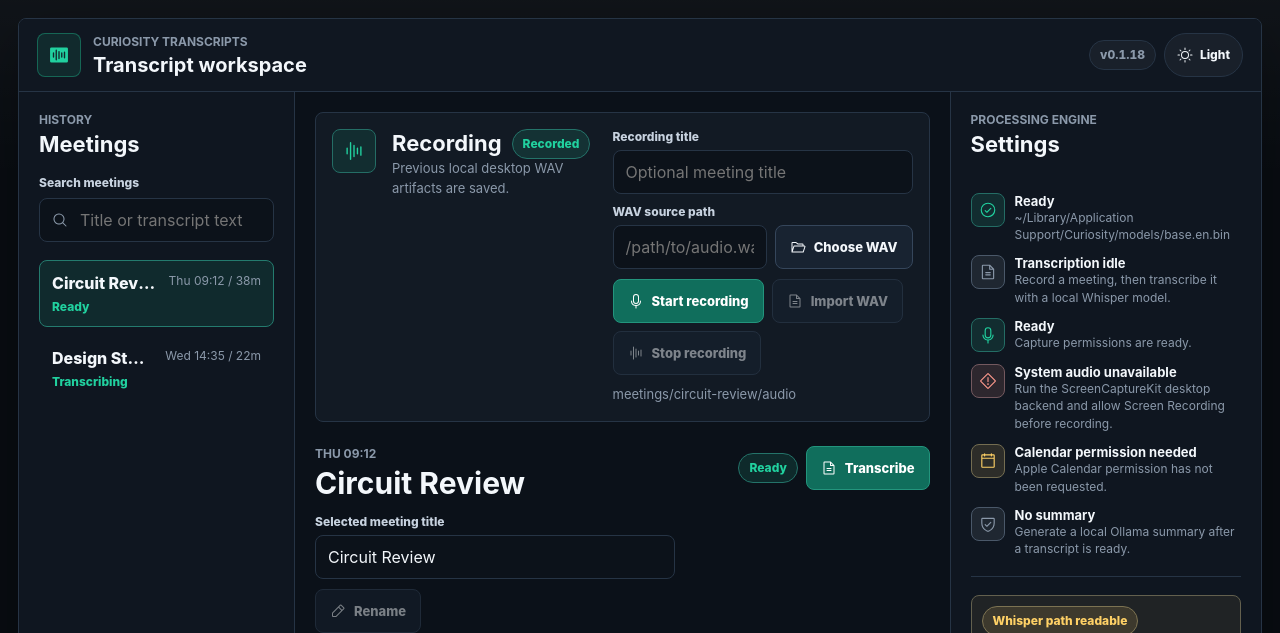
Test: desktop workspace shell › preserves a typed WAV path and reports native picker errors
Type "/Users/adrian/imports/typed.wav" into the field labelled "WAV source path" at (690, 247), box top-left (612, 225), bottom-right (767, 269)
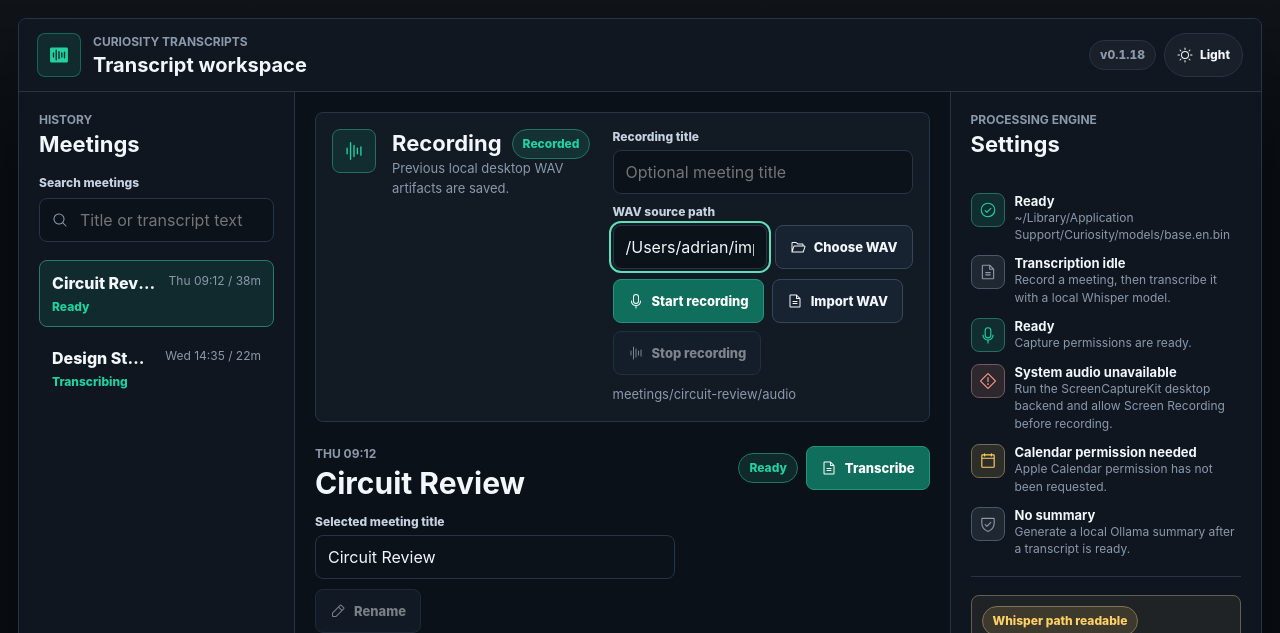
Click the button "Choose WAV" at (844, 247), box top-left (775, 225), bottom-right (912, 269)
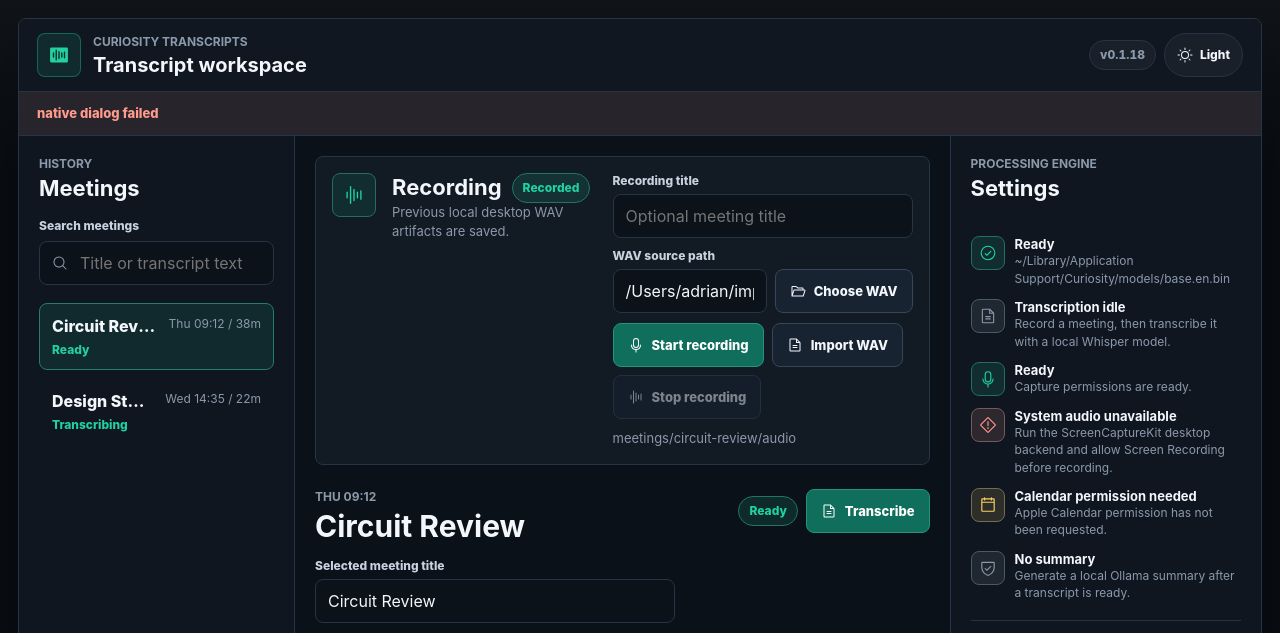
Check: the message reads "native dialog failed", box top-left (37, 105), bottom-right (159, 121)
